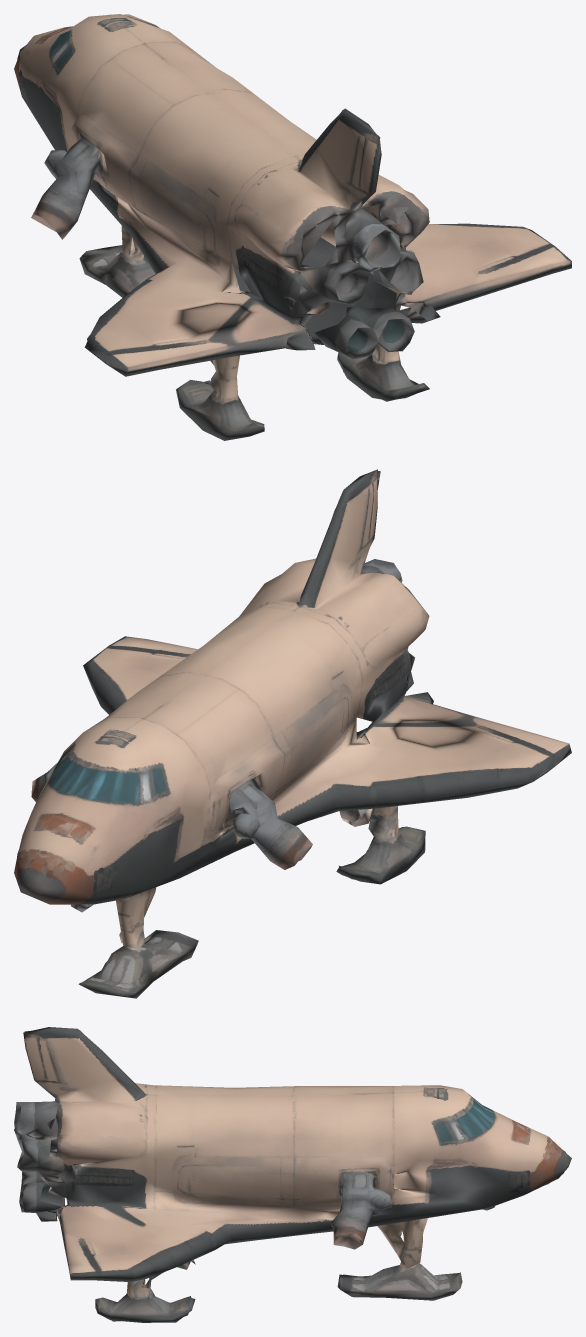
Rendered from shuttle.glb.
The picture shows the model from 3 angles, top to bottom: view 1: azimuth 30°, elevation 25°; view 2: azimuth 150°, elevation 25°; view 3: azimuth 270°, elevation 25°; orthographic projection. The views are drawn at different scales.
Visible parts, largest first — view 1: geometry_0; view 2: geometry_0; view 3: geometry_0.
Part boxes in pixels (<box>): geometry_0: <box>14,14,571,440</box>; geometry_0: <box>14,469,571,998</box>; geometry_0: <box>14,1027,571,1322</box>.
Bounding box in the file's own units: 0.7208 × 0.5101 × 0.9831.
1 material, 1 textured.
